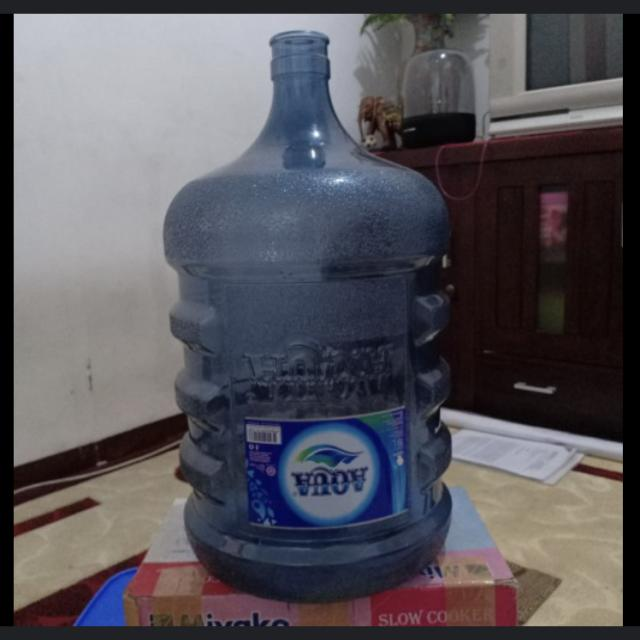Galon: (161, 28, 456, 602)
